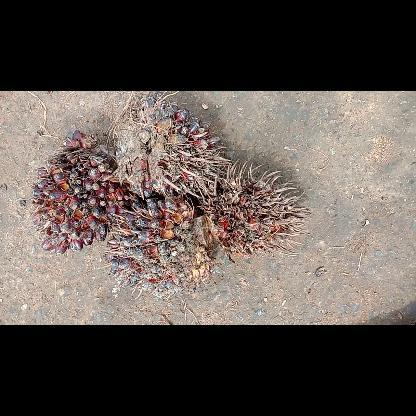TBS abnormal: (112, 90, 232, 196), (32, 130, 130, 254), (194, 159, 312, 255), (107, 198, 214, 294)
